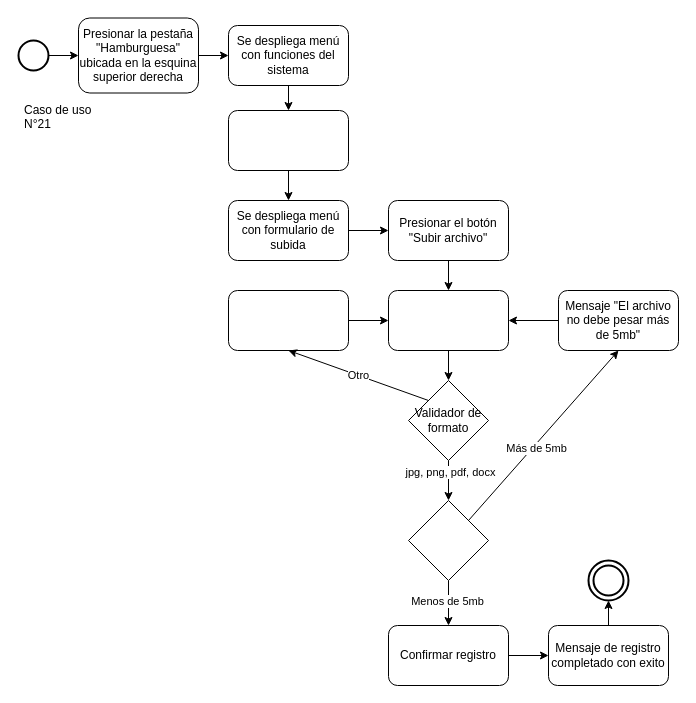
The diagram is 696 pixels wide and 703 high, and some of its shapes have lost their labels. Here are the shapes that lost their labels. From the top down, the centre of each, then its label:
[288,140]: Selecciona la opción "Registrar documentación personal"
[288,320]: Mensaje "El archivo debe ser formato jpg, png, pfd o docx."
[448,320]: Adjuntar archivo
[448,540]: Validador de tamaño
